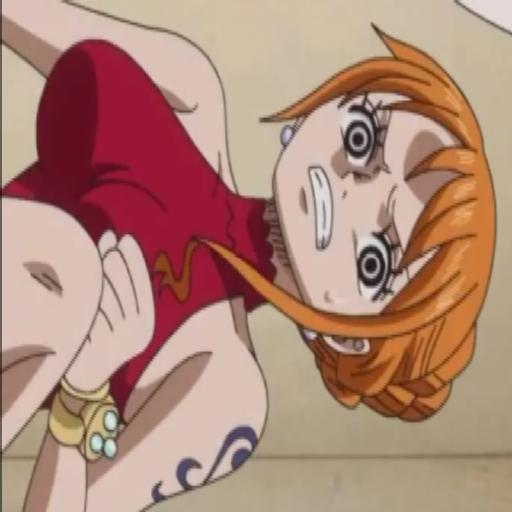Nami: (0, 5, 501, 512)
